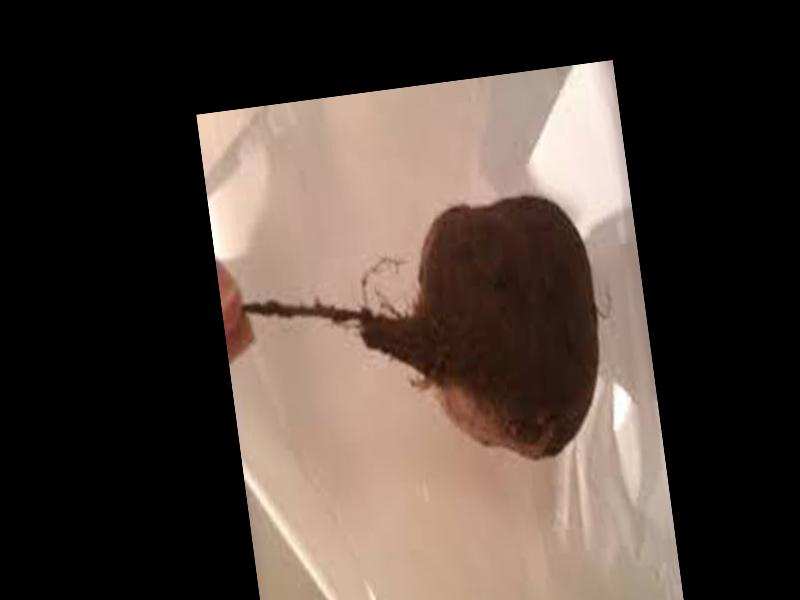Beet: (228, 189, 615, 497)
